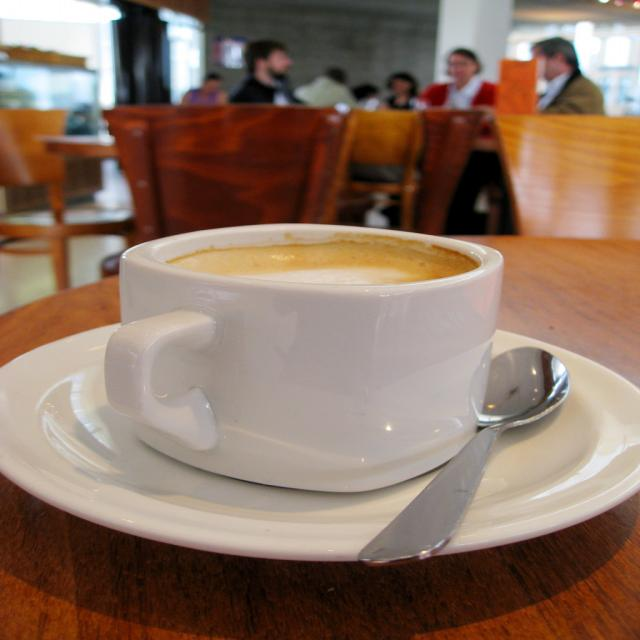Coffee: (102, 223, 570, 495), (170, 240, 474, 288)
